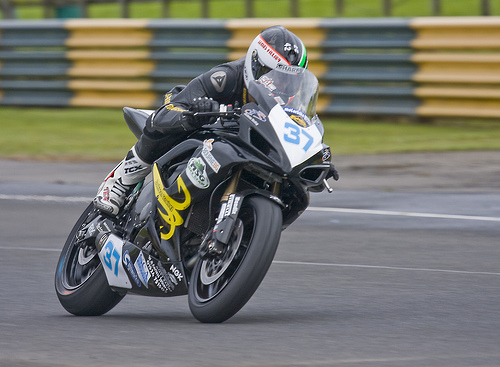helmet: (244, 25, 311, 95)
